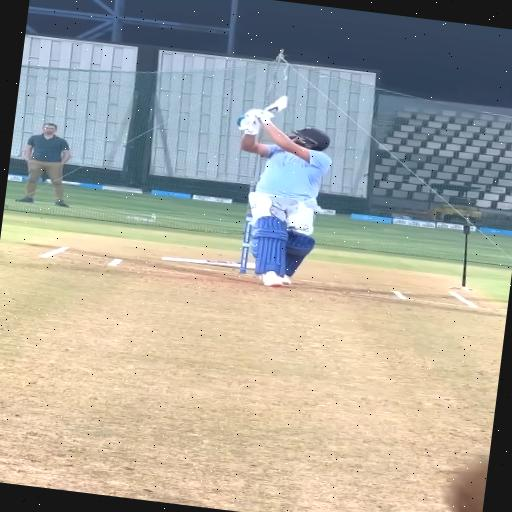Cricket bat: (266, 96, 288, 113)
